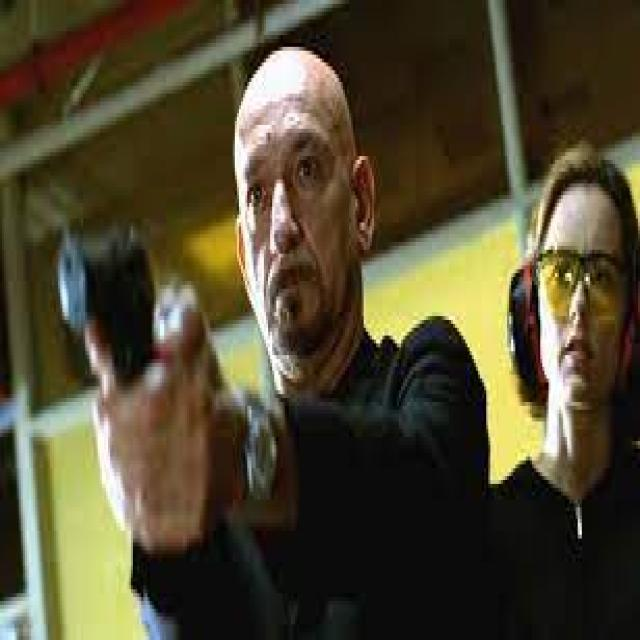weapons: (38, 193, 171, 460)
